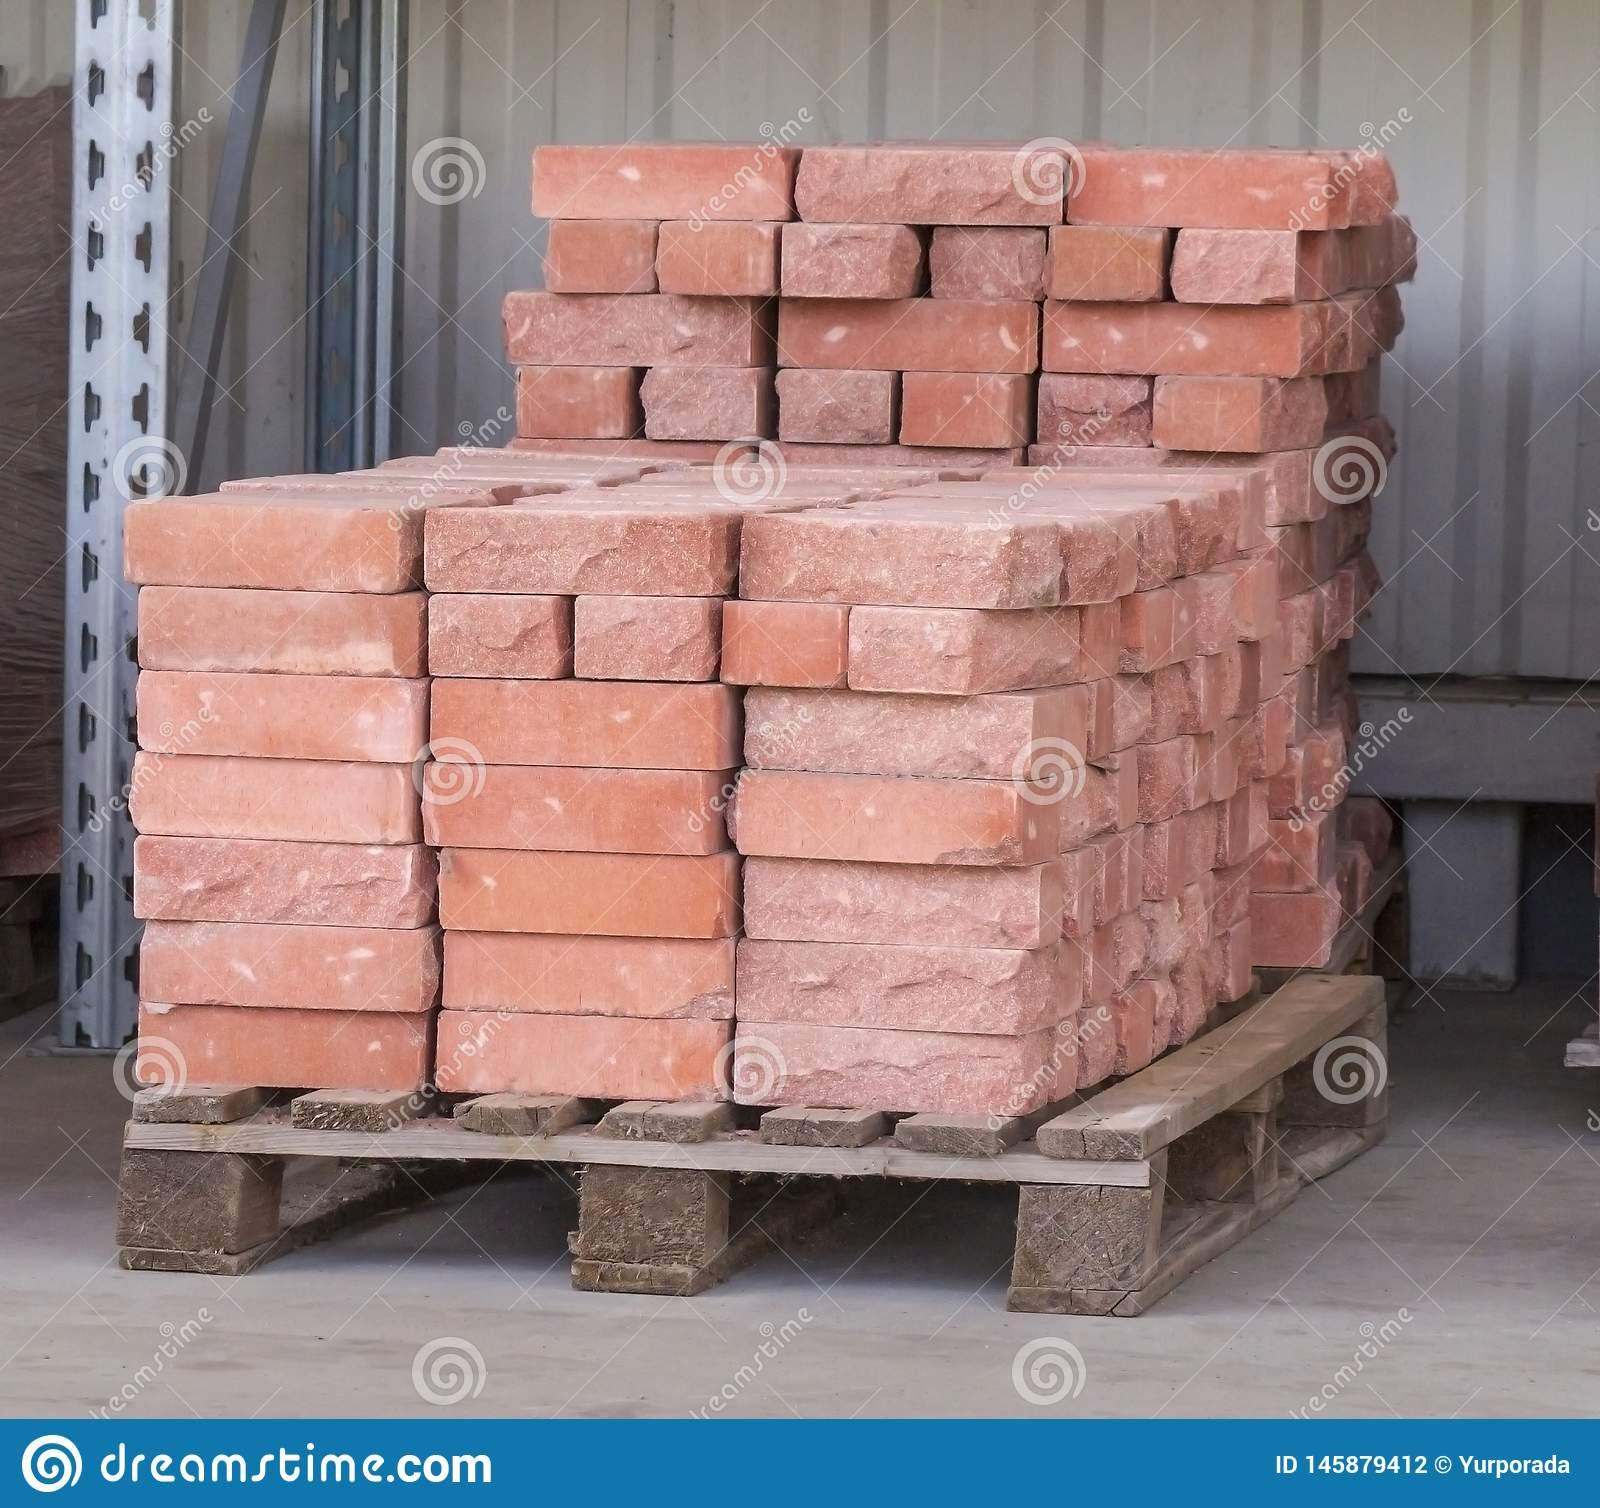brick: (734, 1022, 1023, 1117), (137, 584, 422, 680), (737, 768, 1022, 865), (737, 938, 1023, 1033), (745, 857, 1040, 950), (424, 507, 730, 594), (130, 751, 412, 845), (137, 670, 424, 763), (422, 763, 707, 855), (431, 677, 720, 768), (137, 1002, 425, 1093), (439, 849, 731, 938), (135, 836, 415, 928), (438, 1011, 727, 1100), (745, 690, 1033, 780), (740, 516, 1013, 608), (140, 924, 418, 1015), (444, 931, 734, 1018), (123, 502, 400, 592), (795, 149, 1063, 227), (1069, 153, 1326, 230), (1044, 300, 1302, 377), (533, 145, 789, 220), (777, 298, 1029, 371), (502, 293, 750, 367), (575, 595, 713, 680), (428, 595, 558, 679), (849, 607, 972, 693), (721, 602, 846, 686), (1171, 228, 1297, 303), (1044, 225, 1162, 300), (781, 224, 900, 298), (656, 221, 772, 296), (777, 368, 890, 445), (639, 367, 757, 441), (903, 371, 1010, 448), (1154, 376, 1263, 451), (1039, 374, 1152, 446), (931, 230, 1044, 300), (543, 221, 653, 292), (516, 367, 625, 437)
